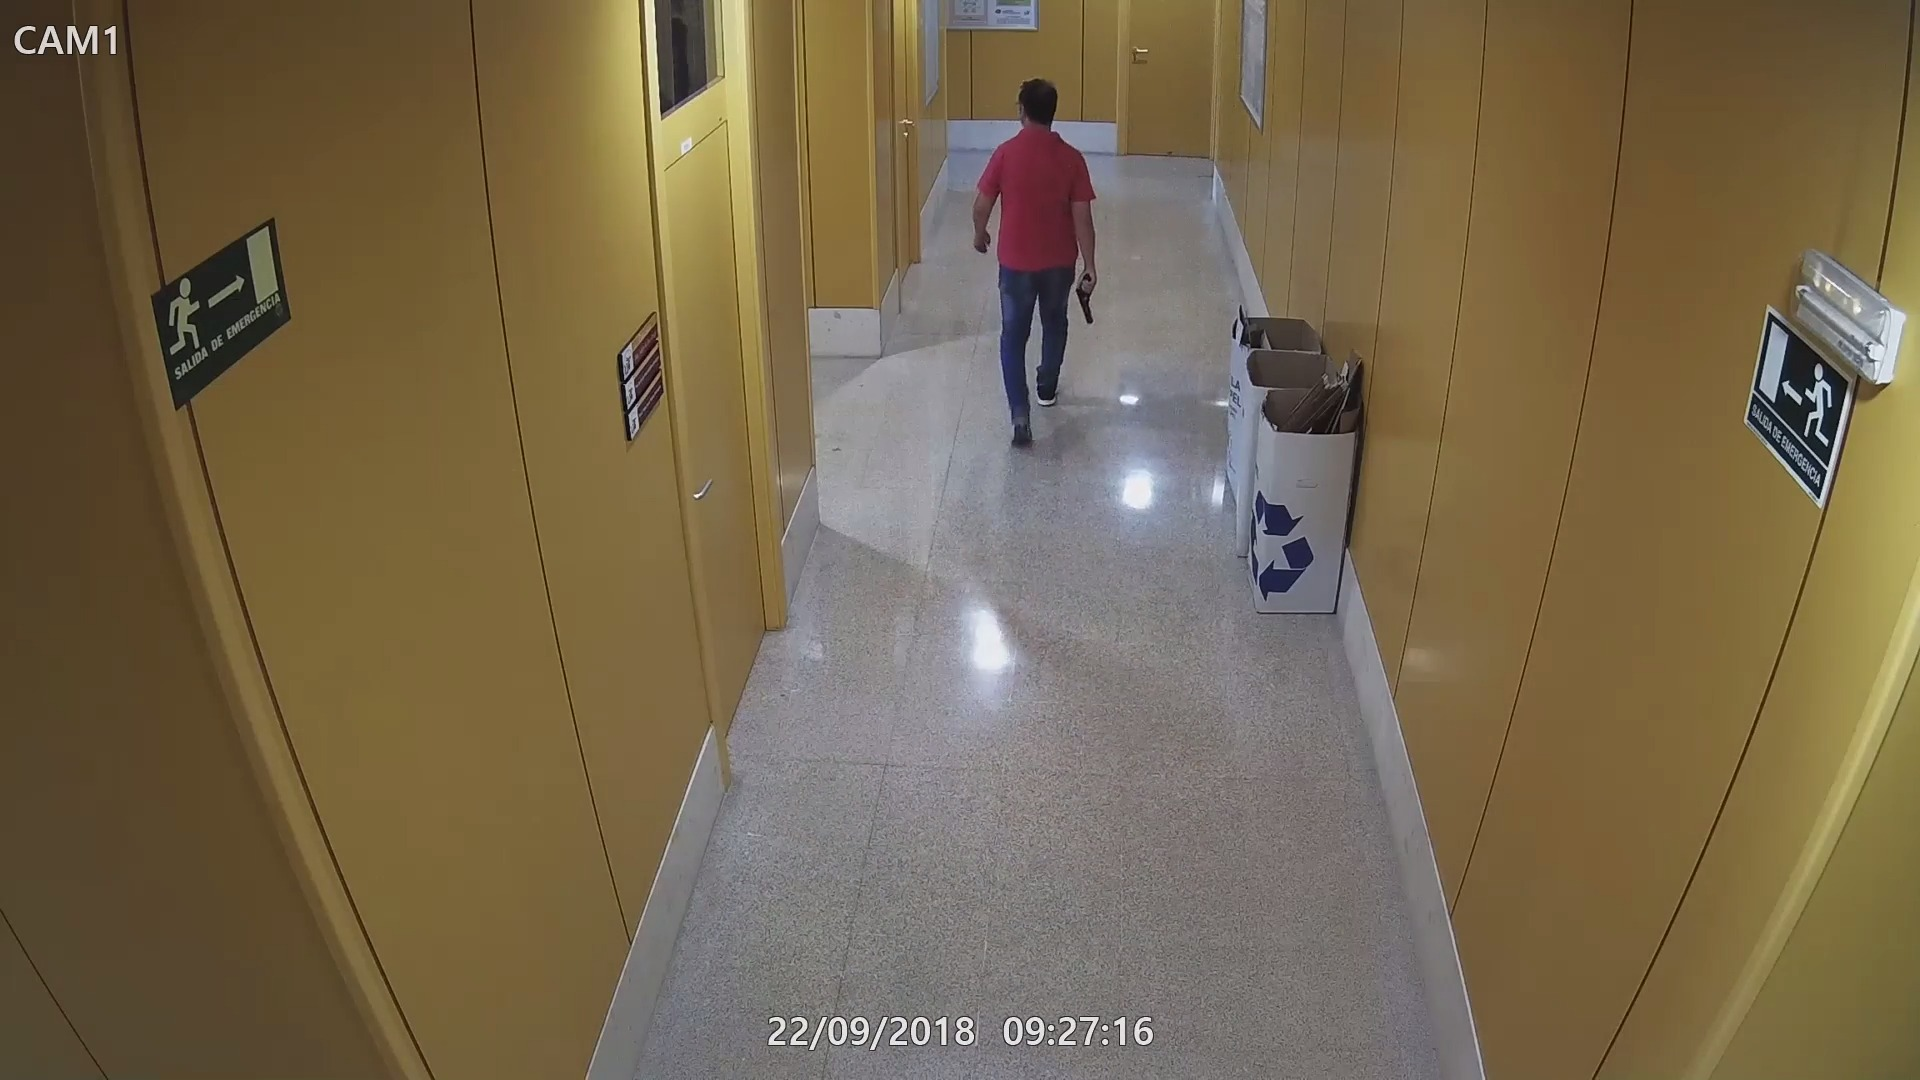Handgun: (1073, 269, 1101, 324)
